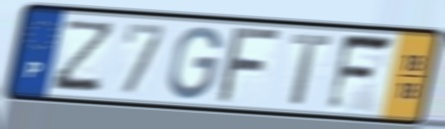7: (120, 21, 167, 97)
F: (323, 32, 397, 114), (213, 26, 287, 106)
G: (165, 24, 225, 102)
T: (289, 33, 335, 108)
Z: (48, 17, 120, 94)
